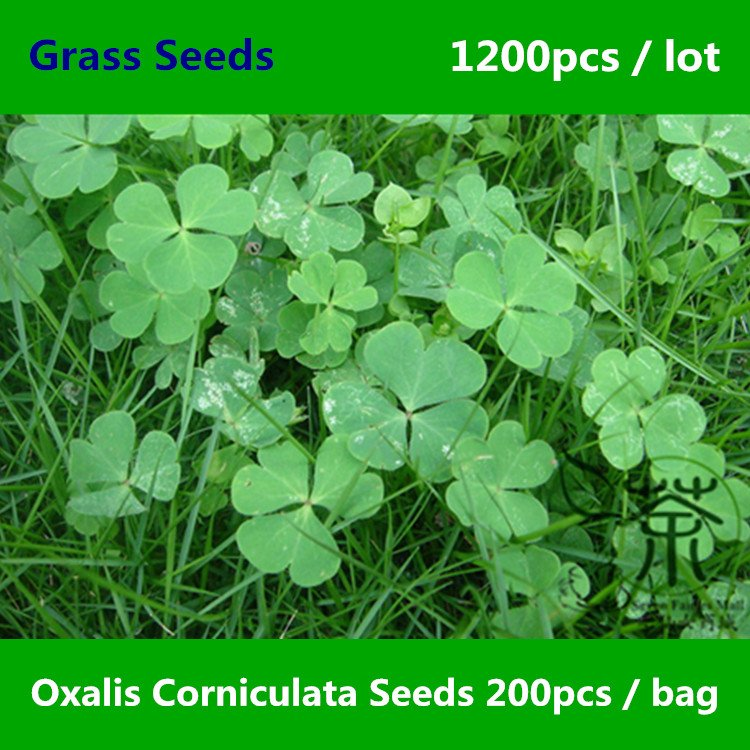oxalis: (15, 128, 684, 547)
